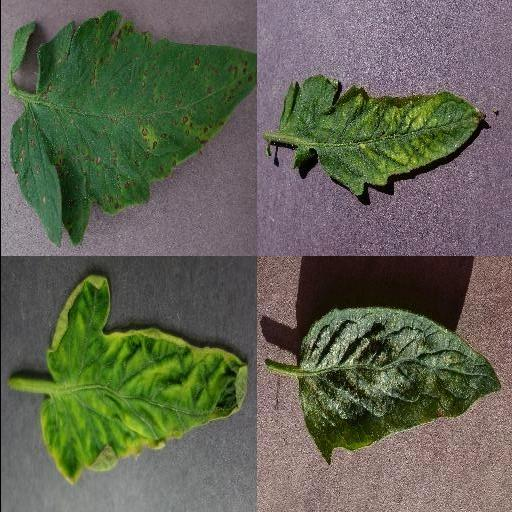Mosaic Virus: (277, 74, 487, 196)
Septoria: (8, 12, 256, 246)
Spider Mites: (298, 309, 502, 463)
Yellow Leaf Curl Virus: (39, 273, 247, 485)
